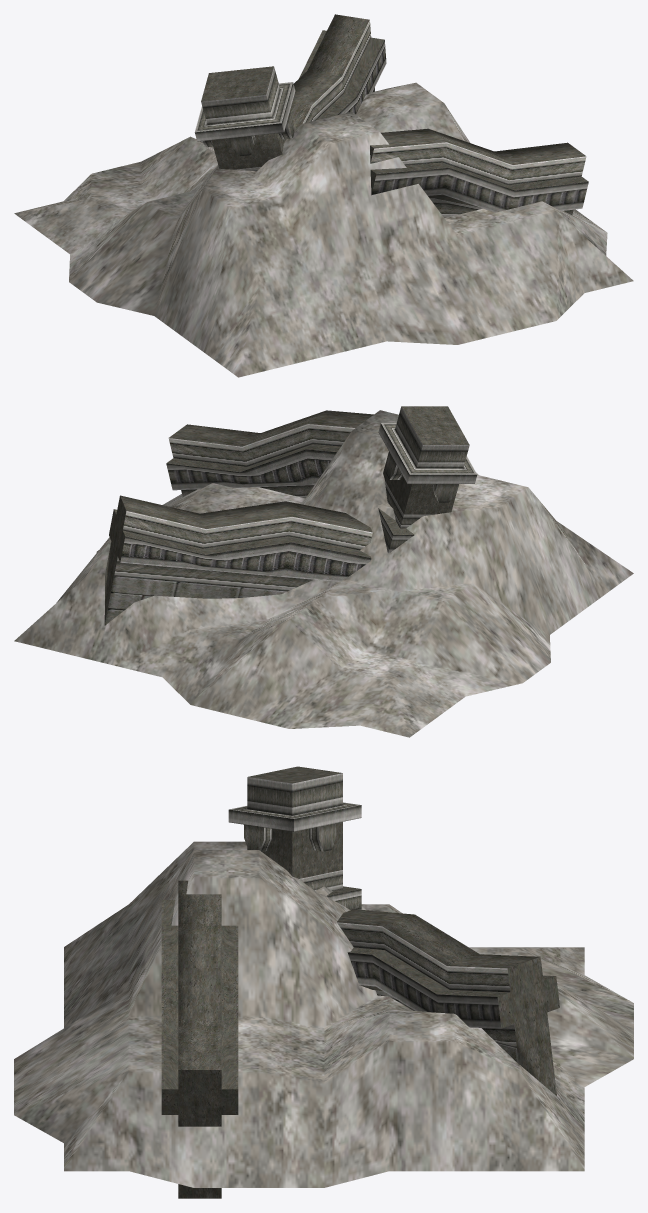
The model's file is DEBREE_CNTR_FULL.fbx.
3 views of the same model, one above another, from view 1: azimuth 30°, elevation 25°; view 2: azimuth 150°, elevation 25°; view 3: azimuth 270°, elevation 25° (orthographic). The views are drawn at different scales.
Visible parts, largest first — view 1: DEBREE_CNTR_FULL; view 2: DEBREE_CNTR_FULL; view 3: DEBREE_CNTR_FULL.
Boxes of the visible parts, box(x1,y1,x2,y2) form: DEBREE_CNTR_FULL: box(14, 14, 633, 377); DEBREE_CNTR_FULL: box(14, 406, 633, 737); DEBREE_CNTR_FULL: box(14, 766, 633, 1198).
Bounding box in the file's own units: 58077 × 29900 × 59122.
Materials: 5 (5 with a texture image).
